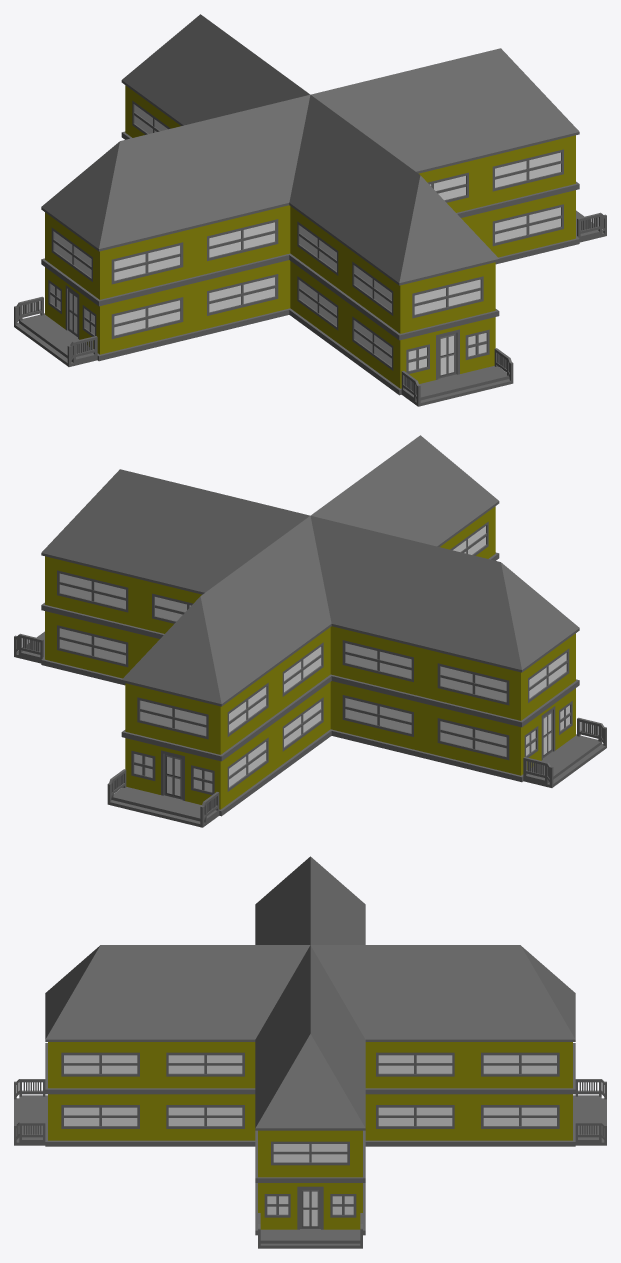
File: medium building 4.fbx
3 views of the same model, one above another, from view 1: azimuth 30°, elevation 25°; view 2: azimuth 150°, elevation 25°; view 3: azimuth 270°, elevation 25° (orthographic). The views are drawn at different scales.
Visible parts, largest first — view 1: building_001; view 2: building_001; view 3: building_001.
Part boxes in pixels (x1,y1,x2,y2): building_001: [14, 14, 606, 406]; building_001: [14, 435, 606, 827]; building_001: [14, 856, 606, 1248].
Size of the model in its own units: 2260 by 750 by 2260.
